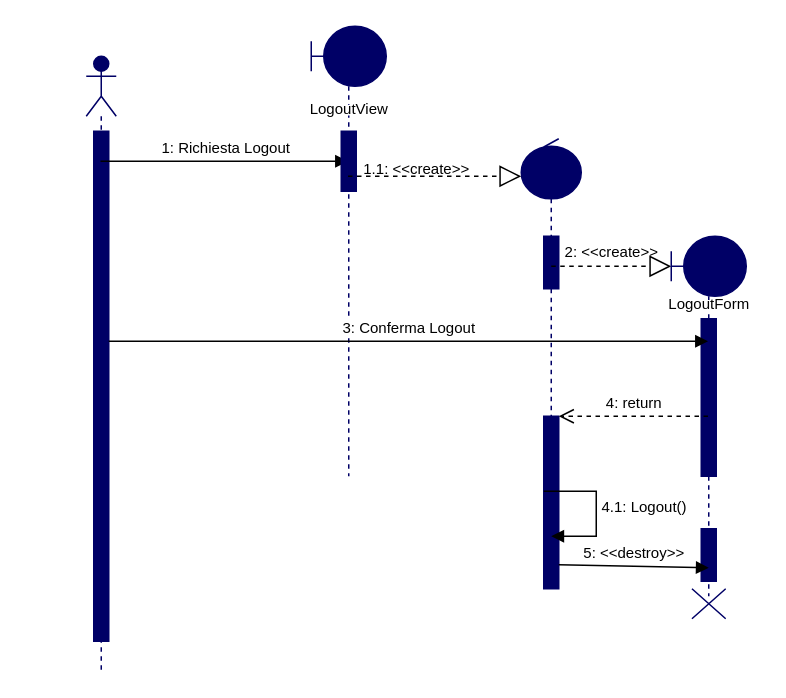
Image size: 786x698. Some labels were removed from this diagram. Here are the shapes that lost their labels. From the top down, the box of each, then its label:
(85, 55, 116, 671): Utente autenticato
(520, 137, 581, 589): LogoutController
